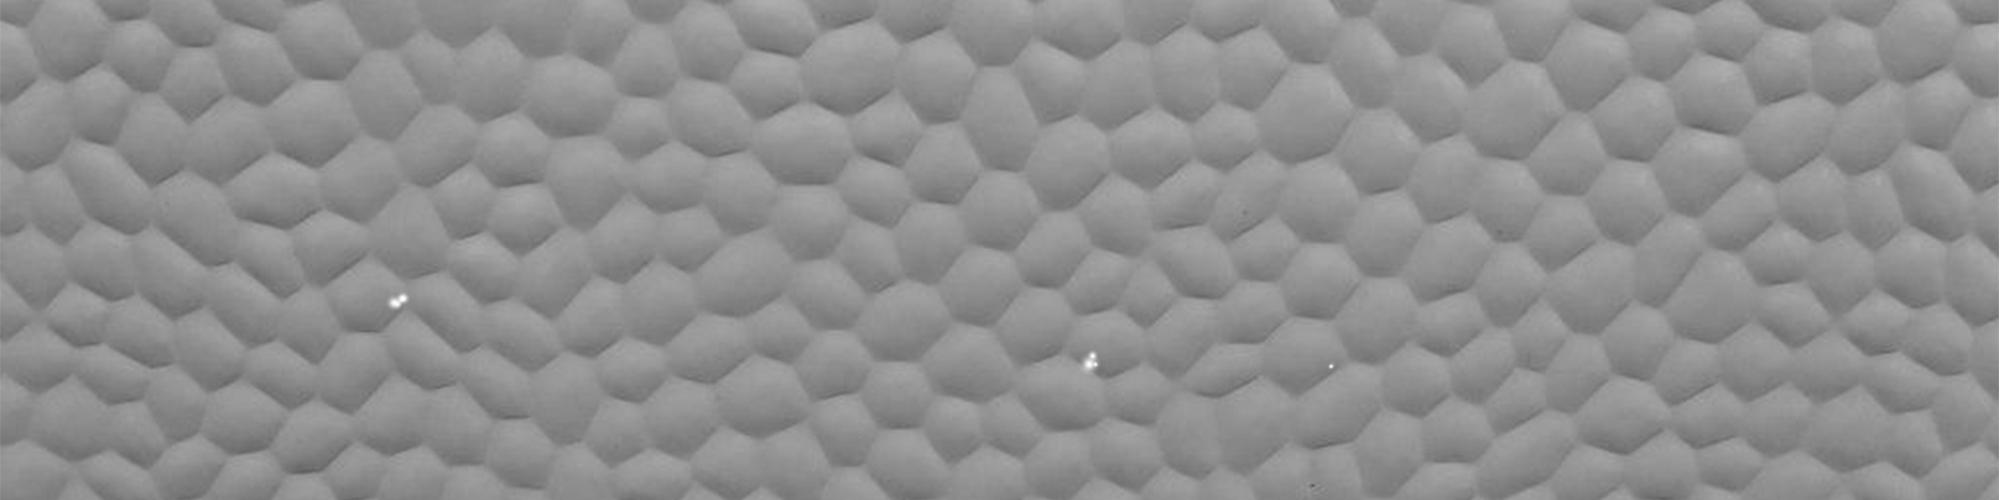Particles: (1079, 349, 1101, 371), (383, 293, 404, 314), (395, 290, 415, 306), (1304, 480, 1323, 492), (1321, 361, 1335, 372)
